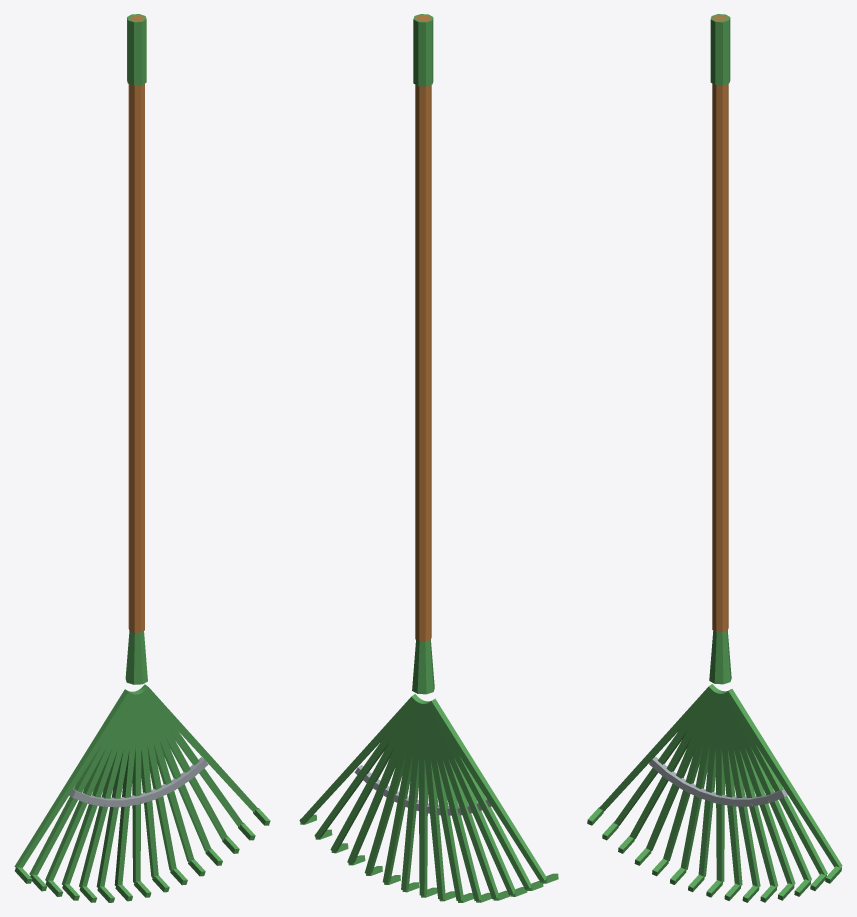
The model's file is rastrillo.glb.
3 views of the same model, side by side, from view 1: azimuth 30°, elevation 25°; view 2: azimuth 150°, elevation 25°; view 3: azimuth 330°, elevation 25° (orthographic).
Visible parts, largest first — view 1: rastrillo_verde_rastrillo, rastrillo_madera, rastrillo_metal; view 2: rastrillo_verde_rastrillo, rastrillo_madera, rastrillo_metal; view 3: rastrillo_verde_rastrillo, rastrillo_madera, rastrillo_metal.
Part boxes in pixels (x1,y1,x2,y2): rastrillo_verde_rastrillo: (14,14,270,902); rastrillo_madera: (128,14,144,632); rastrillo_metal: (69,757,208,807); rastrillo_verde_rastrillo: (299,14,558,902); rastrillo_madera: (415,14,431,641); rastrillo_metal: (354,765,491,815); rastrillo_verde_rastrillo: (587,14,842,902); rastrillo_madera: (712,14,728,632); rastrillo_metal: (649,756,787,806).
Size of the model in its own units: 0.6052 by 2.07 by 0.0764.
